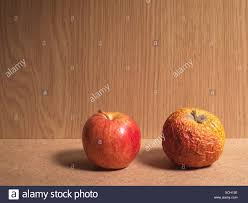apple: (84, 113, 144, 167)
damaged_apple: (161, 109, 227, 166)
